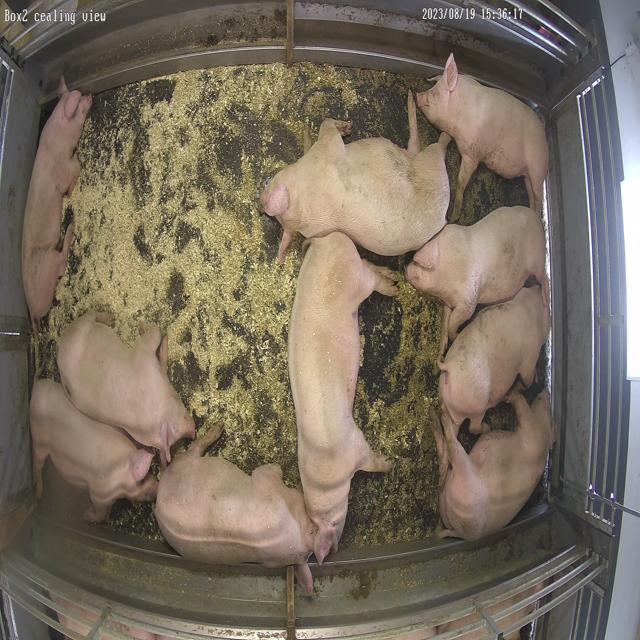Dirt: (342, 249, 442, 548), (278, 63, 428, 164), (462, 166, 528, 224), (447, 142, 461, 190), (420, 115, 440, 144)
Pig: (289, 232, 398, 564), (260, 92, 451, 260), (155, 426, 313, 568), (418, 53, 550, 222), (407, 207, 549, 352), (58, 314, 195, 464), (29, 381, 157, 523), (435, 392, 555, 542), (22, 80, 92, 322), (440, 285, 551, 434)
